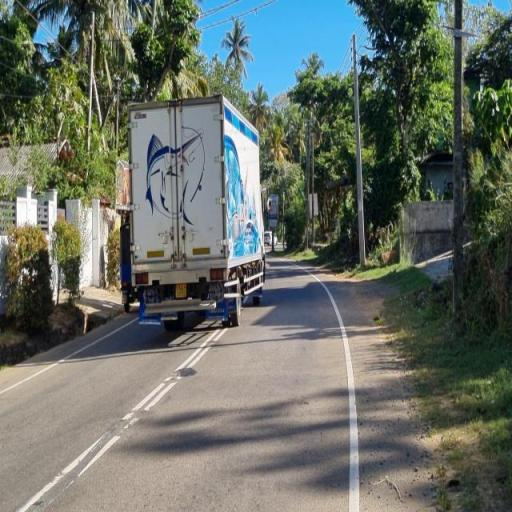double_white_line: (119, 326, 232, 428)
